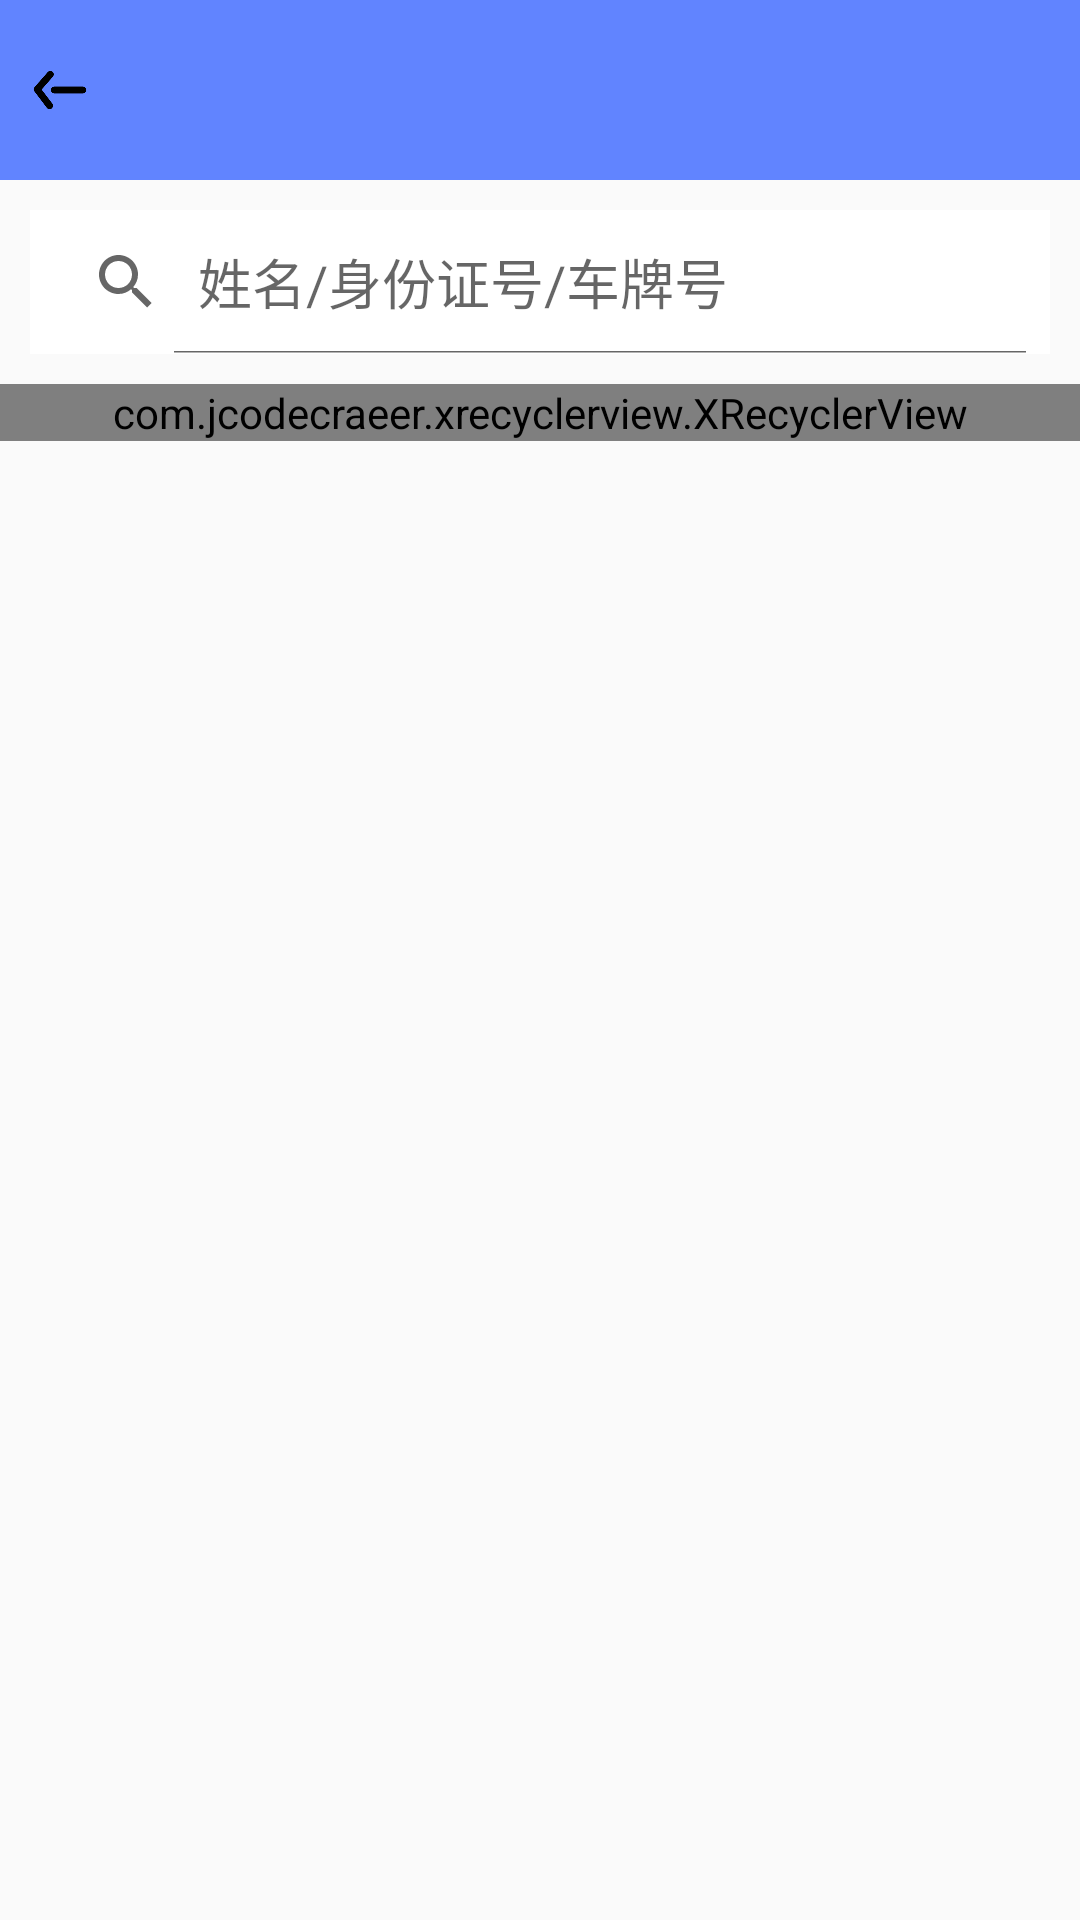

Icon bounding boxes for this 1080w x 1920h phone screenshot, format region(x1, y1, x2, y2):
fanhui: region(34, 71, 86, 109)
